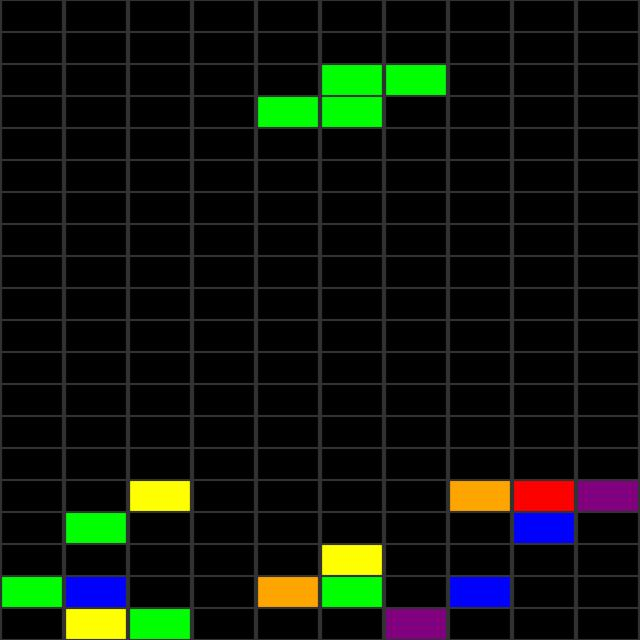Tetrimino_L: (260, 61, 462, 126)
